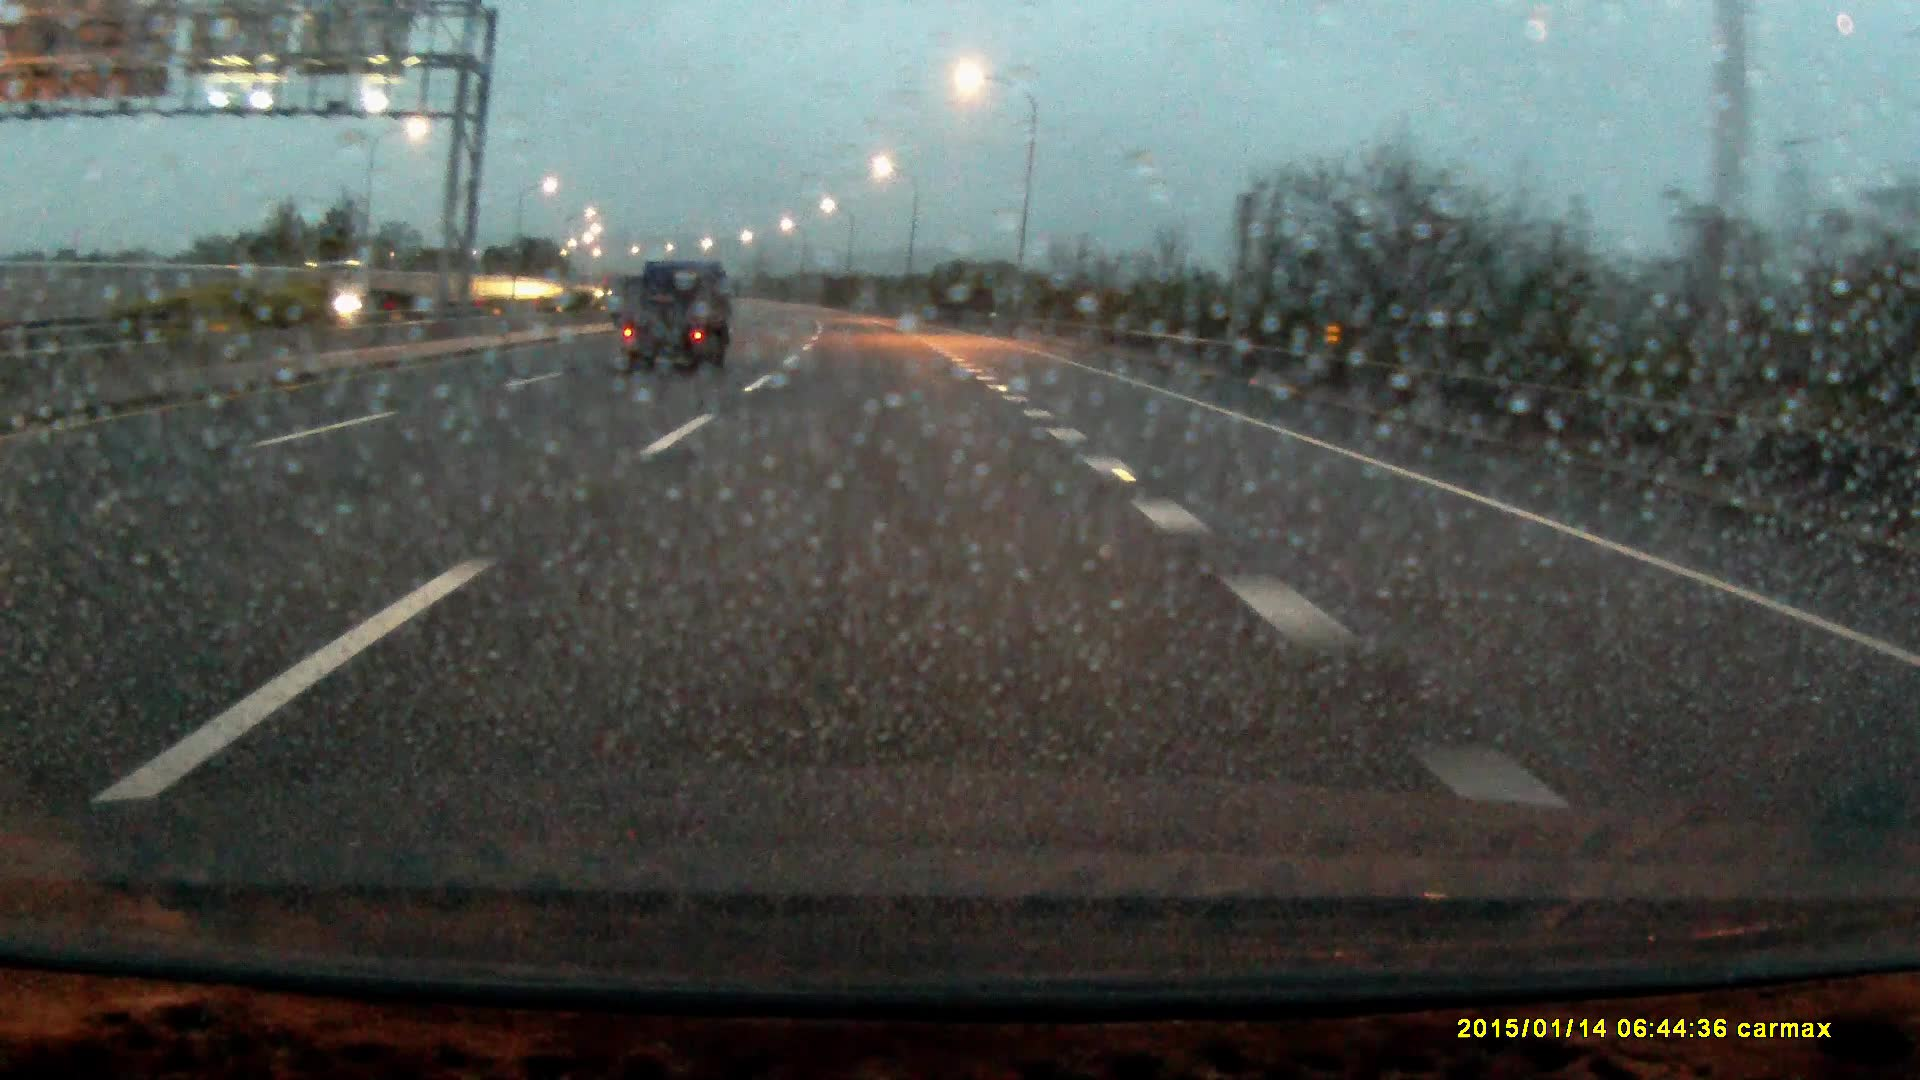vehicle: (620, 262, 735, 381), (295, 258, 429, 322)
